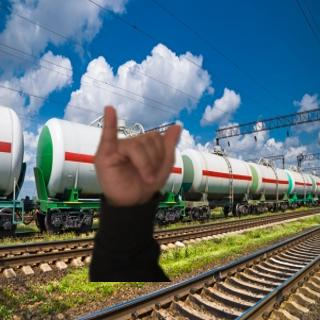HAVE: (82, 101, 188, 207)
